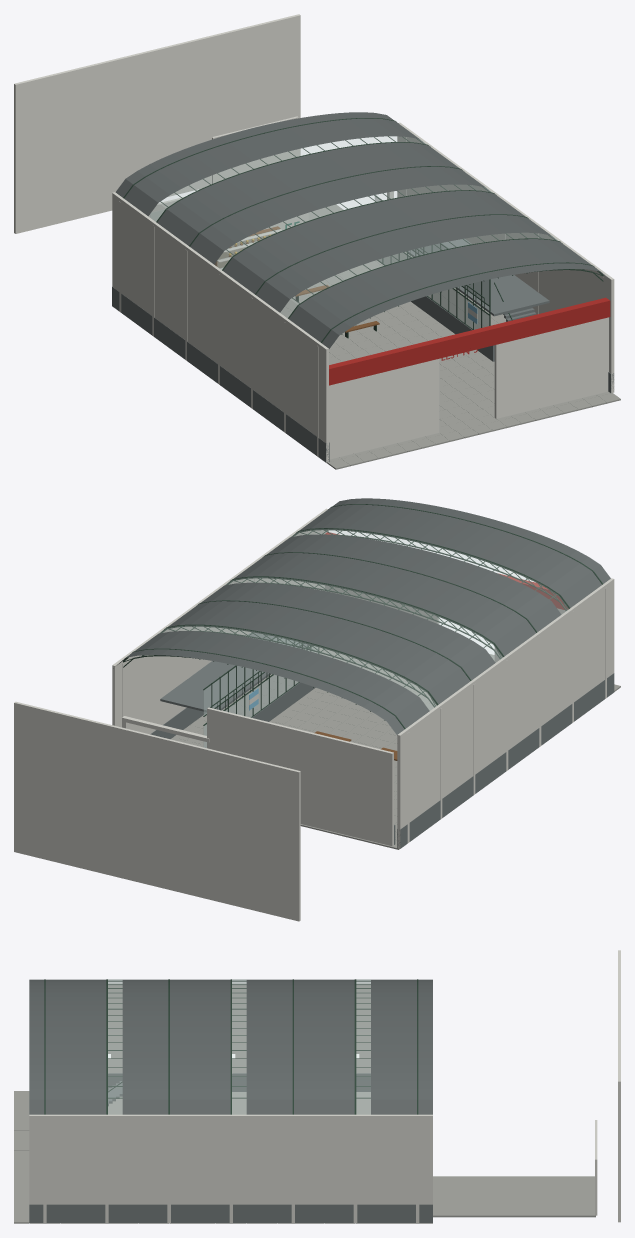
Rendered from school-layout.glb.
The picture shows the model from 3 angles, top to bottom: view 1: azimuth 30°, elevation 25°; view 2: azimuth 150°, elevation 25°; view 3: azimuth 270°, elevation 25°; orthographic projection. The views are drawn at different scales.
Parts seen in each view (by area): view 1: Cierre provisional fondo, Muro lateral, Frente entrada.001, Frente entrada, Dintel rojo, Muro lateral.001, Friso gris, Oficina piso alto, Chapa curva.002, Chapa curva.001, Oficina antepecho, Chapa curva.005 (+38 smaller); view 2: Cierre provisional fondo, Muro lateral, Volumen frontal, Muro lateral.001, Friso gris, Oficina piso alto, Chapa curva.001, Chapa curva.002, Chapa curva.005, Chapa curva.006, Chapa curva.009, Chapa curva.010 (+44 smaller); view 3: Muro lateral.001, Friso gris.001, Pasillo continuación, Muro lateral, Chapa curva.094, Chapa curva.093, Chapa curva.092, Chapa curva.090, Chapa curva.089, Chapa curva.086, Chapa curva.085, Chapa curva.095 (+73 smaller).
Boxes of the visible parts, box(x1,y1,x2,y2) form: Cierre provisional fondo: box(14, 14, 300, 233); Muro lateral: box(112, 192, 328, 462); Frente entrada.001: box(494, 317, 608, 418); Frente entrada: box(329, 359, 439, 459); Dintel rojo: box(329, 297, 610, 385); Muro lateral.001: box(397, 122, 614, 393); Friso gris: box(112, 287, 329, 462); Oficina piso alto: box(408, 238, 549, 316); Chapa curva.002: box(157, 209, 223, 264); Chapa curva.001: box(223, 257, 289, 312); Oficina antepecho: box(411, 296, 494, 361); Chapa curva.005: box(233, 249, 301, 298); Cierre provisional fondo: box(14, 701, 300, 921); Muro lateral: box(397, 578, 614, 848); Volumen frontal: box(207, 707, 393, 846); Muro lateral.001: box(112, 508, 328, 734); Friso gris: box(397, 673, 614, 848); Oficina piso alto: box(160, 632, 309, 711); Chapa curva.001: box(494, 601, 561, 656); Chapa curva.002: box(428, 649, 495, 704); Chapa curva.005: box(483, 593, 551, 642); Chapa curva.006: box(417, 641, 485, 690); Chapa curva.009: box(471, 587, 539, 634); Chapa curva.010: box(405, 635, 473, 682); Muro lateral.001: box(29, 1114, 432, 1204); Friso gris.001: box(29, 1204, 432, 1222); Pasillo continuación: box(433, 1176, 595, 1217); Muro lateral: box(108, 985, 370, 1073); Chapa curva.094: box(246, 1099, 354, 1114); Chapa curva.093: box(122, 1099, 230, 1114); Chapa curva.092: box(29, 1099, 106, 1114); Chapa curva.090: box(246, 1089, 354, 1099); Chapa curva.089: box(122, 1089, 230, 1099); Chapa curva.086: box(246, 1080, 354, 1089); Chapa curva.085: box(122, 1080, 230, 1089); Chapa curva.095: box(371, 1099, 432, 1114).
Bounding box in the file's own units: 20.22 × 10.1 × 39.1.
